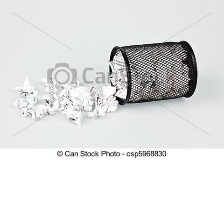book: (11, 69, 124, 127), (103, 46, 192, 100)
